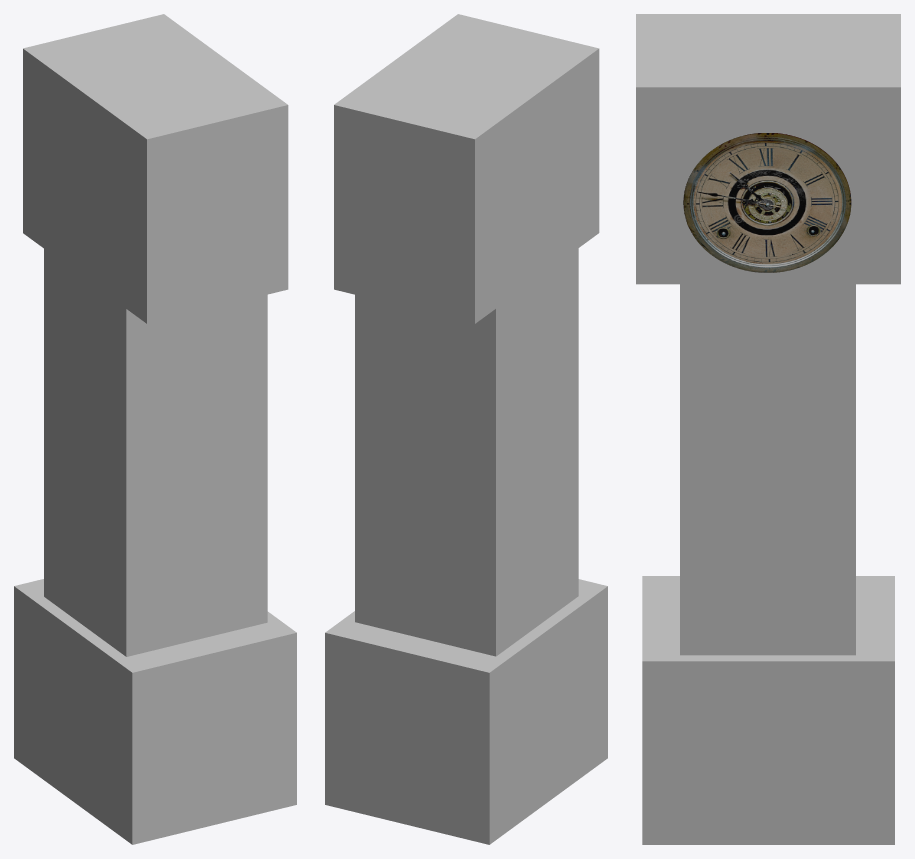
File: Grandfather_Clock.fbx
3 renders of one model, left to right at view 1: azimuth 30°, elevation 25°; view 2: azimuth 150°, elevation 25°; view 3: azimuth 270°, elevation 25°, orthographic. The views are drawn at different scales.
Visible parts, largest first — view 1: pCube1; view 2: pCube1; view 3: pCube1.
Part boxes in pixels (left/top/right/bottom): pCube1: left=14, top=14, right=296, bottom=844; pCube1: left=325, top=14, right=607, bottom=844; pCube1: left=636, top=14, right=900, bottom=844.
Bounding box in the file's own units: 1 × 4.09 × 1.31.
